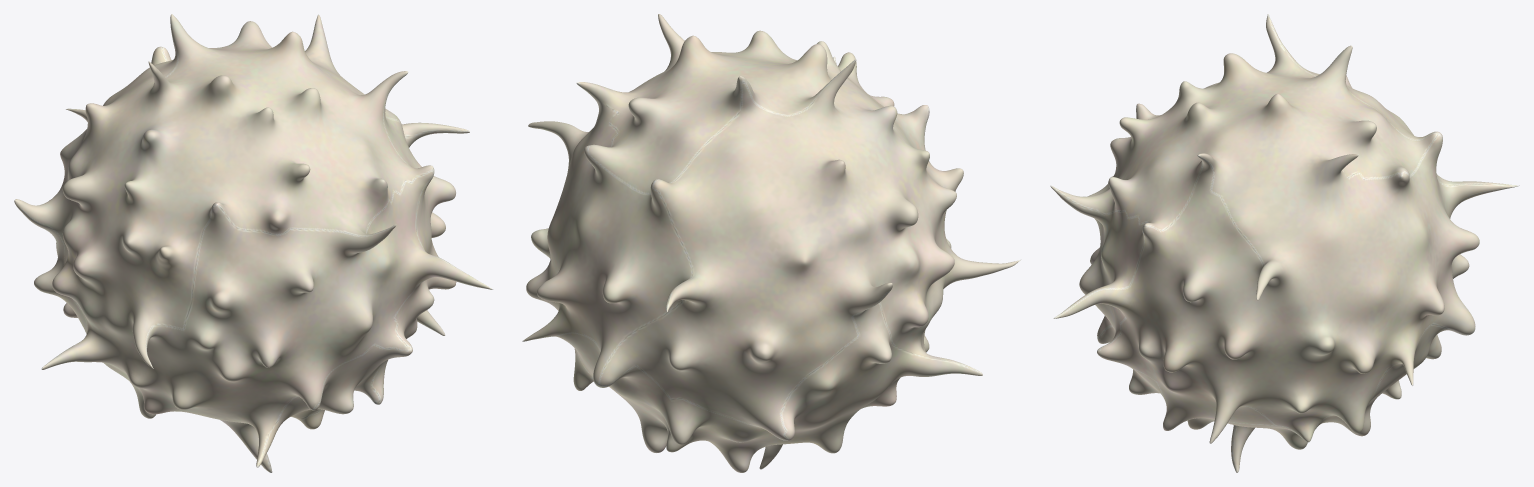
Rendered from Monocyte_V01.glb.
3 renders of one model, left to right at view 1: azimuth 30°, elevation 25°; view 2: azimuth 150°, elevation 25°; view 3: azimuth 270°, elevation 25°, orthographic. The views are drawn at different scales.
Visible parts, largest first — view 1: white_blood_cell_monocyte_OBJ_high.117; view 2: white_blood_cell_monocyte_OBJ_high.117; view 3: white_blood_cell_monocyte_OBJ_high.117.
Part boxes in pixels (box(x1,y1,x2,y2)): white_blood_cell_monocyte_OBJ_high.117: box(14, 14, 493, 472); white_blood_cell_monocyte_OBJ_high.117: box(522, 14, 1021, 472); white_blood_cell_monocyte_OBJ_high.117: box(1050, 14, 1519, 472).
Bounding box in the file's own units: 0.184 × 0.1744 × 0.1813.
Materials: 3 (2 with a texture image).
